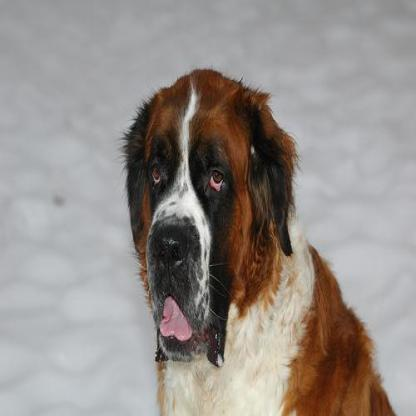Saint_Bernard: (117, 64, 400, 414)
